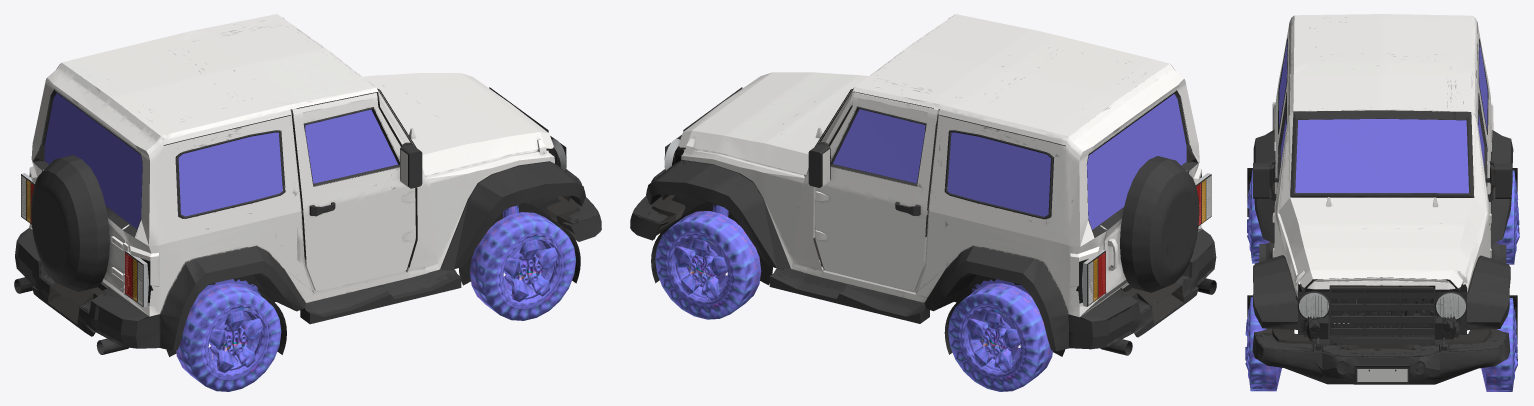
Rendered from jipe-capota.glb.
3 views of the same model, side by side, from view 1: azimuth 30°, elevation 25°; view 2: azimuth 150°, elevation 25°; view 3: azimuth 270°, elevation 25° (orthographic). The views are drawn at different scales.
Visible parts, largest first — view 1: body, door_fr, hood, fender_front_right, trunk, glass_door_rr, wheel_fr_tire, wheel_rr_tire, glass_rear, glass_door_fr, bumper_rear, wheel_fr_rim (+5 smaller); view 2: body, door_fl, hood, fender_front_left, trunk, glass_door_rl, wheel_fl_tire, glass_rear, wheel_rl_tire, glass_door_fl, bumper_rear, wheel_rl_rim (+5 smaller); view 3: body, hood, glass_windshield, bumper_front, grille, fender_front_right, fender_front_left, door_fl, door_fr, headlight_left, headlight_right, wheel_fl_tire (+8 smaller).
Boxes of the visible parts, x1,y1,x2,y2 form: body: [14, 14, 581, 356]; door_fr: [288, 87, 425, 297]; hood: [363, 73, 554, 178]; fender_front_right: [424, 157, 585, 273]; trunk: [29, 89, 151, 316]; glass_door_rr: [178, 132, 282, 216]; wheel_fr_tire: [469, 204, 575, 320]; wheel_rr_tire: [176, 279, 281, 391]; glass_rear: [44, 93, 142, 228]; glass_door_fr: [305, 109, 397, 183]; bumper_rear: [15, 244, 184, 350]; wheel_fr_rim: [503, 240, 560, 302]; body: [651, 14, 1216, 356]; door_fl: [806, 87, 943, 296]; hood: [678, 72, 868, 177]; fender_front_left: [646, 156, 807, 272]; trunk: [1078, 90, 1202, 316]; glass_door_rl: [947, 132, 1050, 216]; wheel_fl_tire: [655, 204, 761, 319]; glass_rear: [1087, 94, 1186, 229]; wheel_rl_tire: [948, 279, 1052, 391]; glass_door_fl: [833, 109, 925, 183]; bumper_rear: [1044, 245, 1216, 351]; wheel_rl_rim: [965, 310, 1021, 374]; body: [1247, 14, 1517, 350]; hood: [1277, 188, 1487, 291]; glass_windshield: [1295, 119, 1468, 193]; bumper_front: [1252, 333, 1510, 384]; grille: [1329, 287, 1435, 338]; fender_front_right: [1253, 212, 1316, 343]; fender_front_left: [1448, 210, 1510, 342]; door_fl: [1468, 71, 1490, 258]; door_fr: [1274, 71, 1296, 257]; headlight_left: [1434, 284, 1467, 339]; headlight_right: [1297, 284, 1329, 339]; wheel_fl_tire: [1482, 298, 1515, 391].
Size of the model in its own units: 3.96 by 1.87 by 2.08.
Materials: 13 (10 with a texture image).
